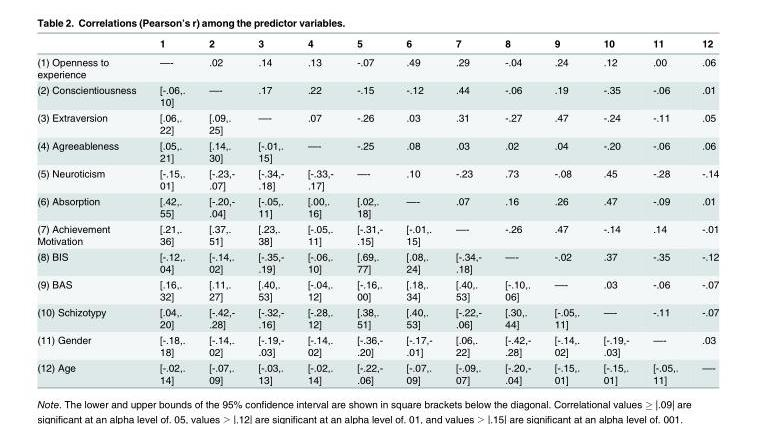table: (36, 36, 718, 385)
table column: (36, 36, 147, 385), (245, 36, 295, 385), (393, 36, 443, 385), (590, 36, 640, 385), (147, 36, 196, 385), (196, 36, 245, 385), (295, 36, 344, 385), (344, 36, 393, 385), (443, 36, 492, 385), (492, 36, 541, 385), (541, 36, 590, 385), (640, 36, 689, 385), (689, 36, 718, 385)
table column header: (36, 36, 718, 52)
table row: (36, 52, 718, 81), (36, 81, 718, 109), (36, 109, 718, 137), (36, 164, 718, 192), (36, 192, 718, 220), (36, 220, 718, 248), (36, 248, 718, 276), (36, 303, 718, 331), (36, 331, 718, 359), (36, 137, 718, 164), (36, 276, 718, 303), (36, 359, 718, 385), (36, 36, 718, 52)
